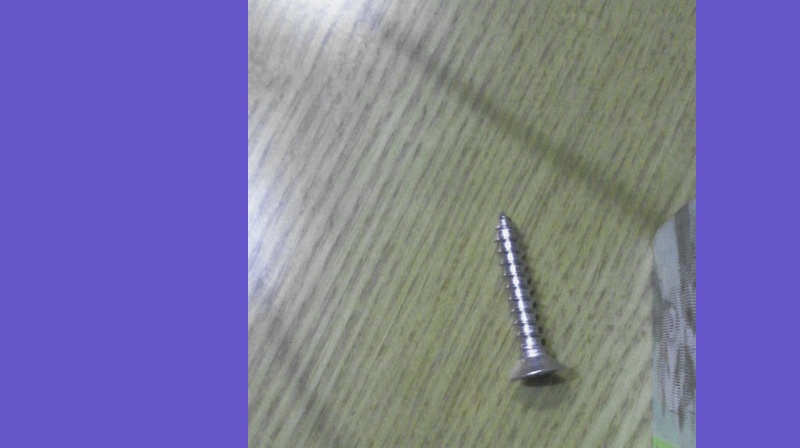S001: (493, 209, 563, 385)
